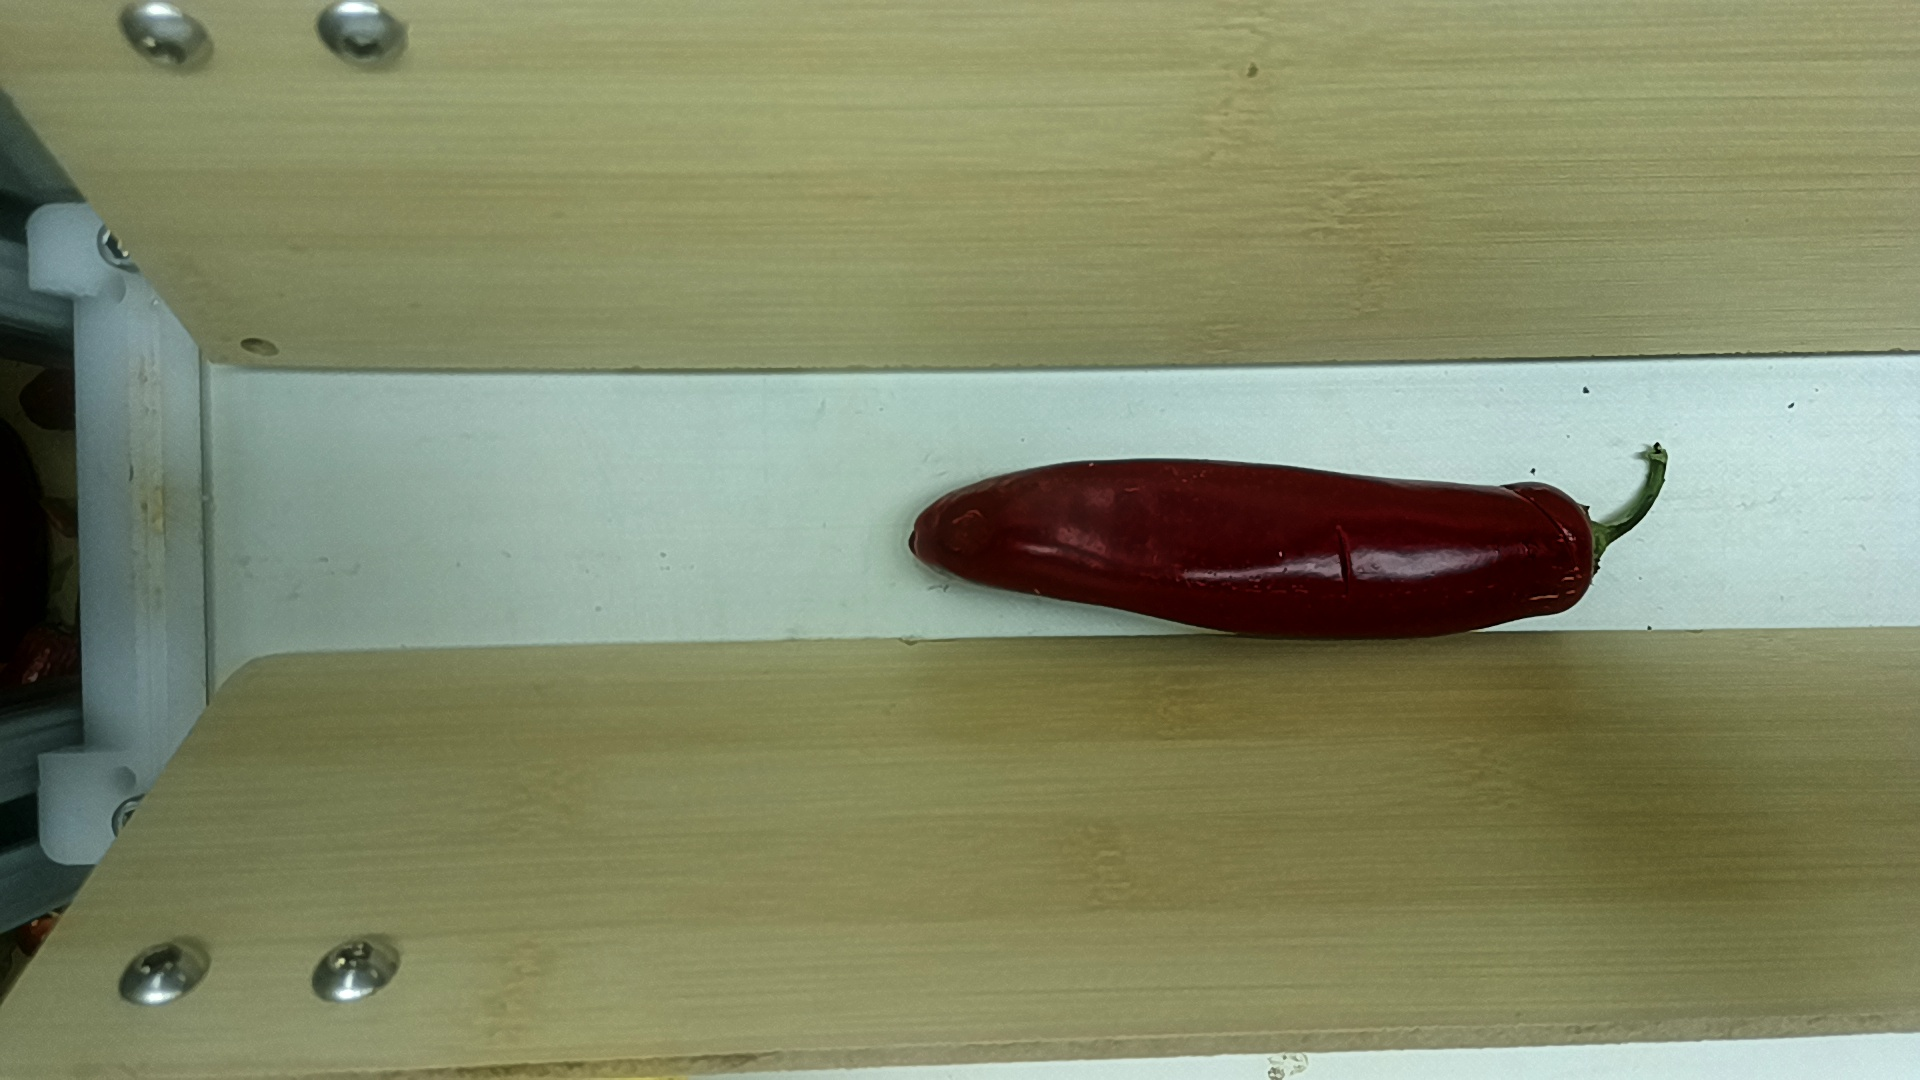Cut Point: (1531, 473, 1627, 617)
